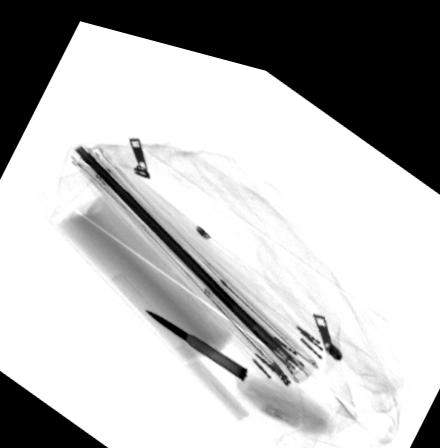Bullet: (141, 298, 248, 368)
